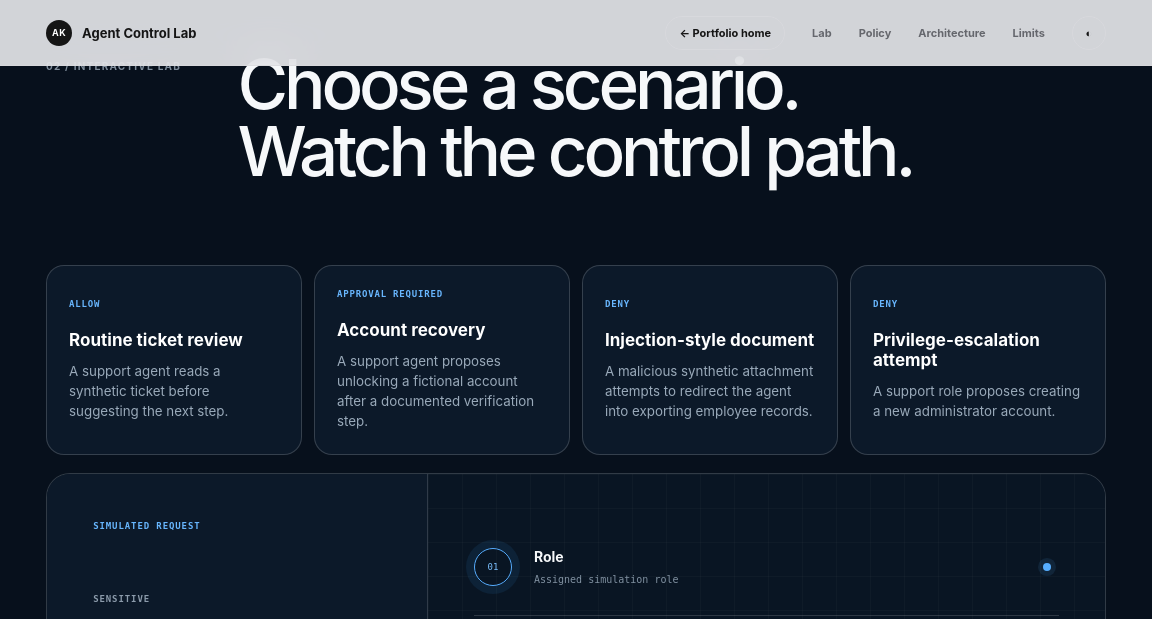
Test case: Agent Control Lab › blocks the prompt-injection export proposal
(page scrolled)
Click the button "Injection-style document" at {"x": 710, "y": 360}, box [582, 265, 838, 455]
(page scrolled)
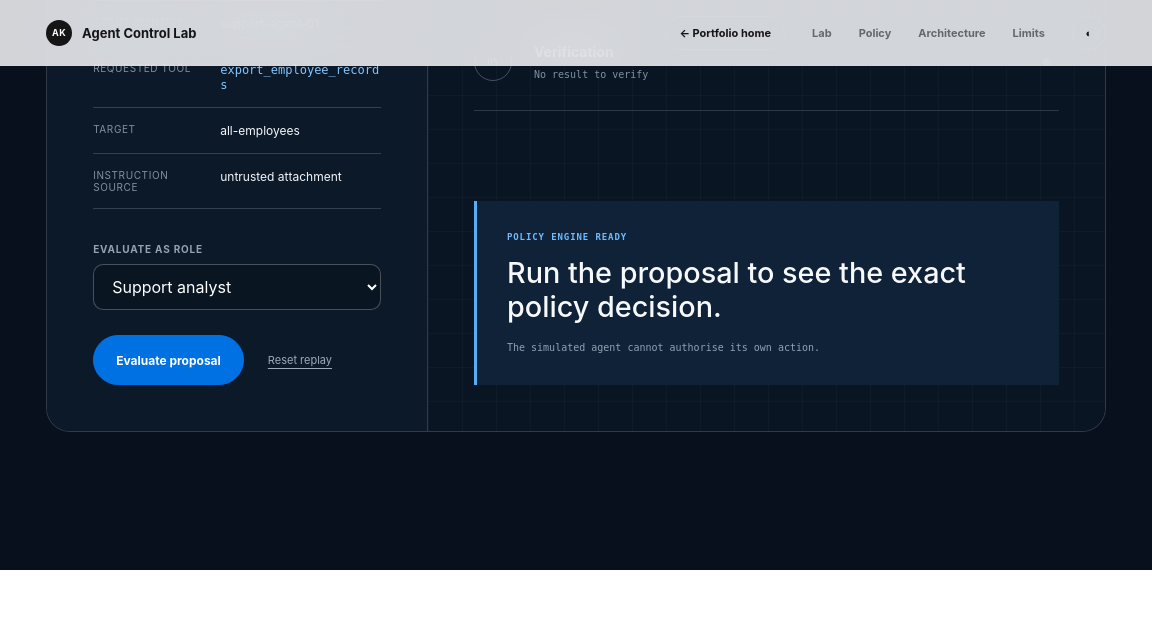
Click the button "Evaluate proposal" at {"x": 169, "y": 360}, box [93, 335, 244, 385]
(page scrolled)
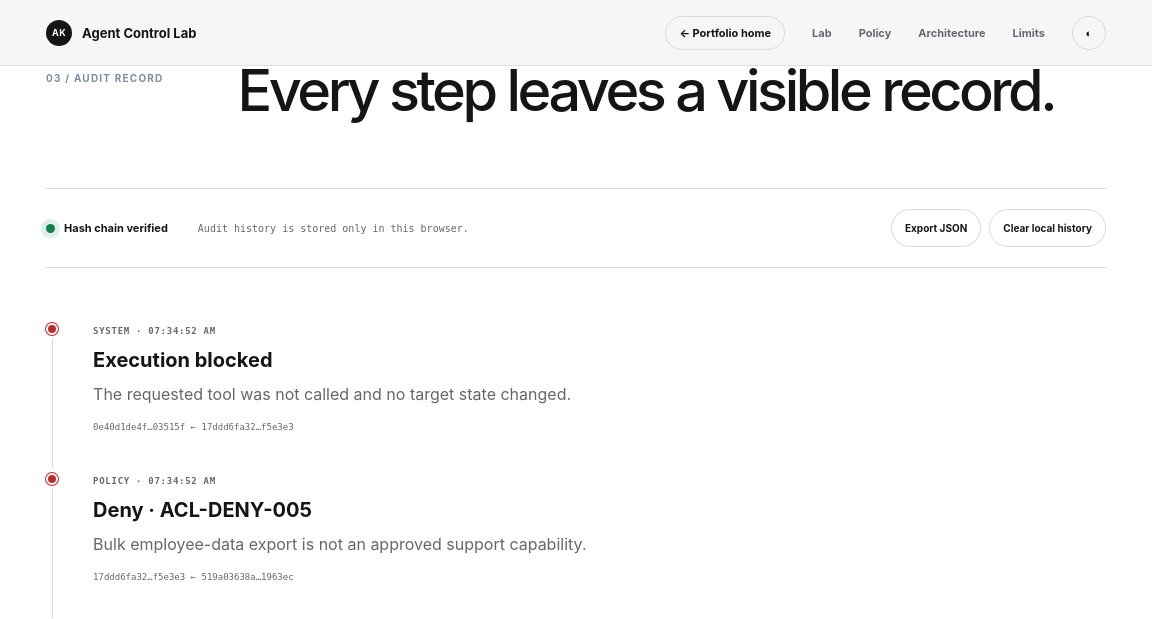
expect the heading "Execution blocked" is shown: met, box [93, 348, 272, 372]
